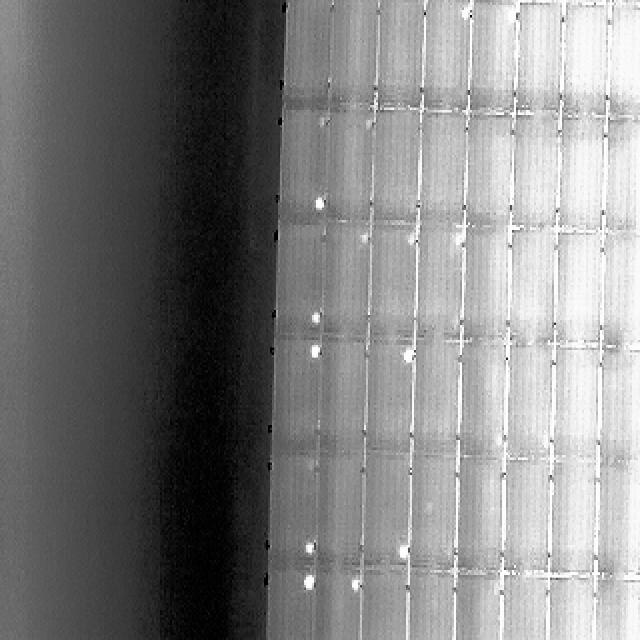Hotspots: (456, 4, 476, 28), (353, 229, 370, 254), (492, 425, 504, 453), (447, 234, 463, 254), (307, 197, 323, 217), (400, 346, 417, 364), (304, 307, 320, 325), (305, 343, 320, 362), (347, 570, 361, 590), (298, 540, 314, 557), (394, 547, 411, 563), (299, 571, 313, 589), (506, 5, 519, 24)
PV-modules: (409, 342, 461, 461), (319, 224, 370, 344), (509, 228, 559, 347), (459, 341, 508, 462), (323, 108, 374, 224), (555, 114, 605, 232), (314, 454, 365, 569), (372, 112, 422, 229), (269, 339, 318, 458), (407, 460, 457, 576), (456, 462, 506, 578), (359, 454, 409, 570), (507, 348, 557, 463), (366, 344, 416, 459), (512, 115, 561, 232), (463, 116, 513, 230), (318, 343, 368, 457), (504, 463, 553, 579), (554, 231, 602, 349), (266, 456, 316, 569), (369, 225, 418, 340), (462, 228, 511, 343), (413, 226, 462, 340), (551, 349, 600, 463), (278, 110, 327, 224), (416, 114, 464, 230), (549, 464, 597, 579), (376, 0, 426, 110), (284, 0, 334, 110), (274, 224, 322, 338), (328, 0, 378, 108), (516, 5, 565, 115), (420, 0, 468, 112), (468, 4, 516, 116), (559, 6, 607, 118), (596, 462, 640, 580), (596, 348, 640, 462), (600, 232, 640, 348), (602, 120, 640, 235), (606, 5, 640, 120), (310, 570, 362, 640), (357, 574, 406, 640), (267, 572, 314, 640), (454, 577, 504, 640), (502, 575, 550, 640), (408, 575, 456, 640), (546, 579, 594, 640), (594, 580, 640, 640), (470, 0, 520, 2), (562, 0, 610, 2), (520, 0, 566, 2), (608, 0, 640, 2)
